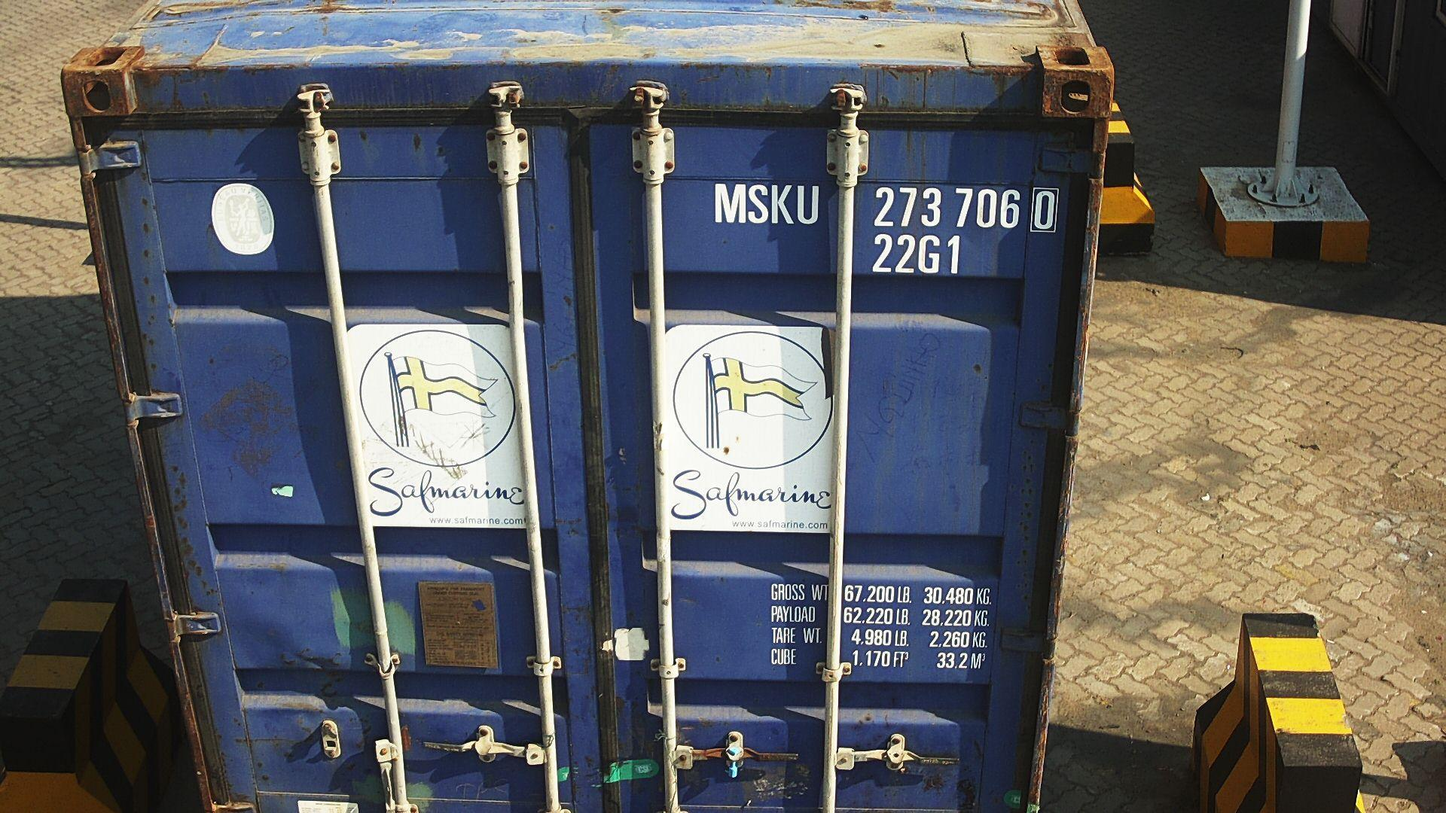container-numbers: (707, 179, 1065, 236), (868, 230, 966, 277)
